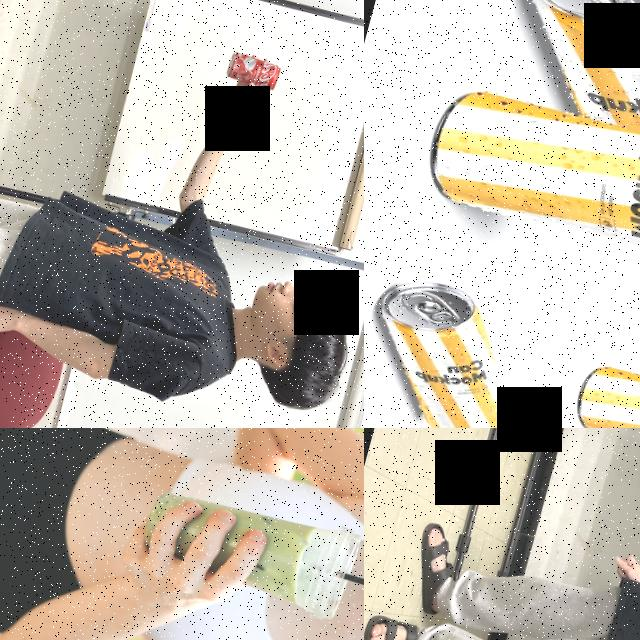can: (416, 78, 640, 316), (364, 267, 543, 428), (493, 0, 640, 158), (220, 48, 284, 94)
cup: (131, 477, 364, 625)
